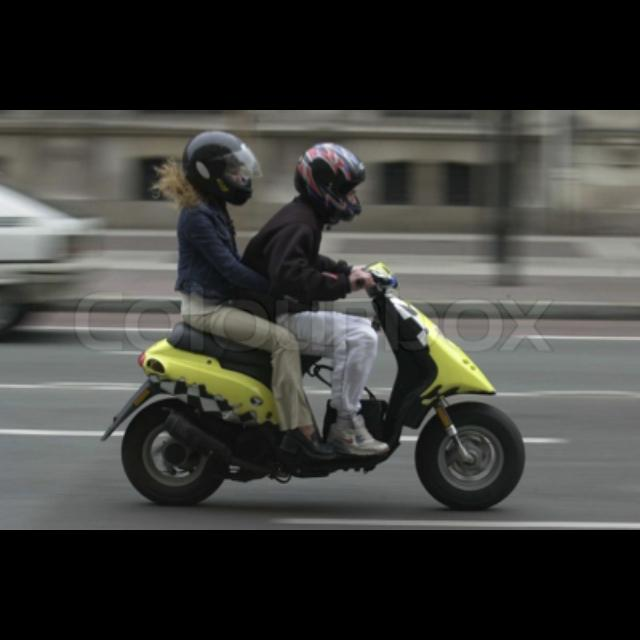With Helmet: (296, 140, 368, 226)
